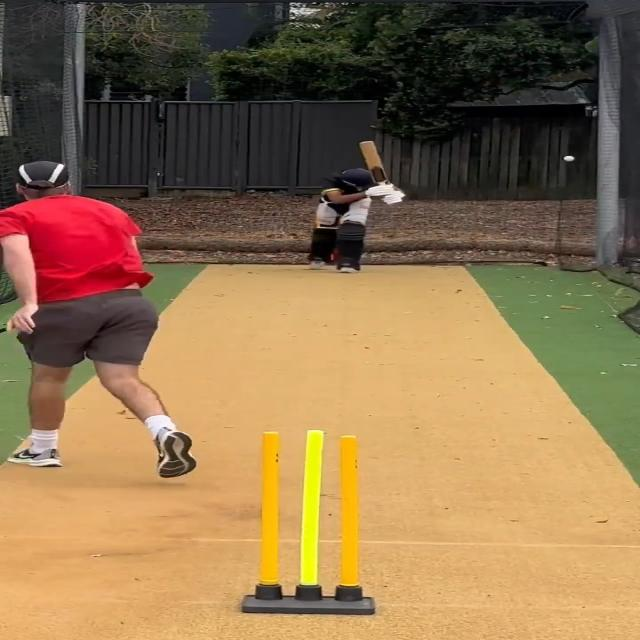ball: (562, 153, 577, 162)
stump: (239, 427, 375, 617)
